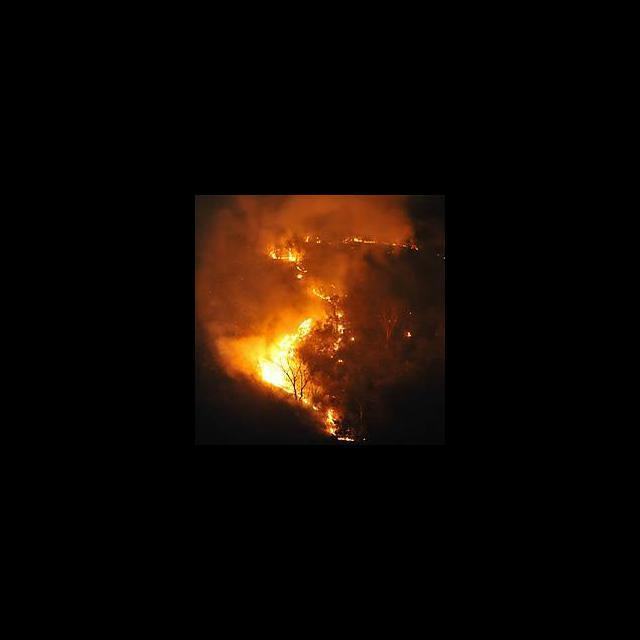Fire: (252, 314, 316, 410), (314, 285, 348, 353), (268, 240, 306, 278), (315, 234, 409, 248), (324, 408, 355, 442)
